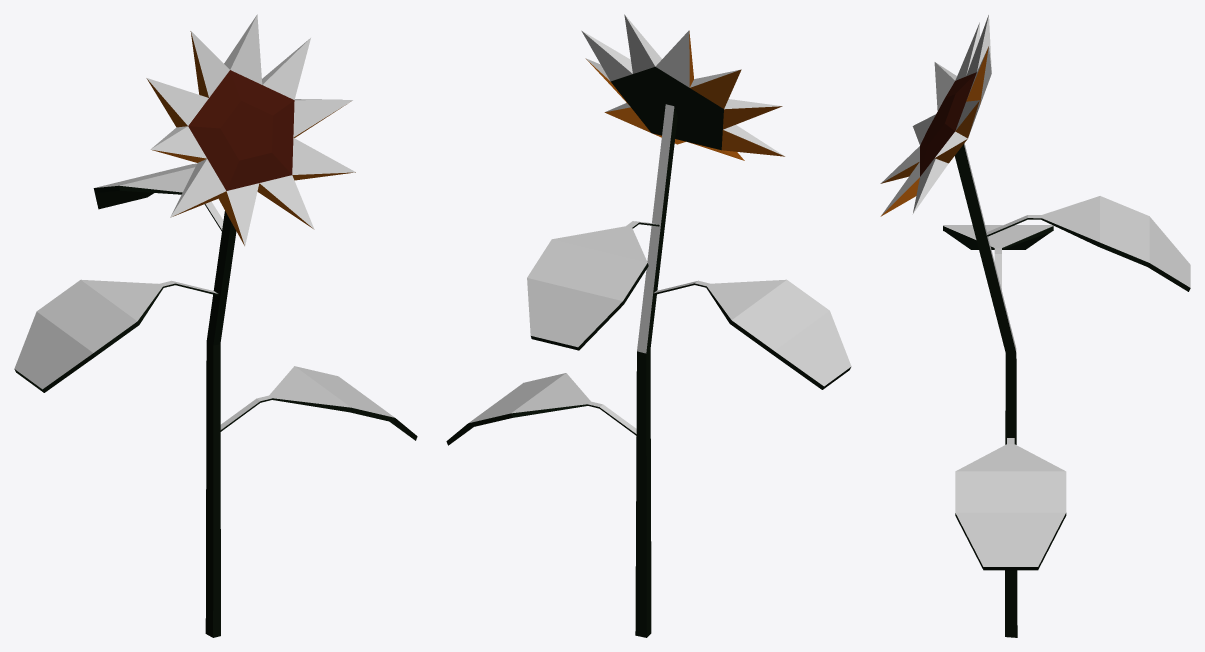
The model's file is Flower_5_Snow.obj.
The picture shows the model from 3 angles, left to right: view 1: azimuth 30°, elevation 25°; view 2: azimuth 150°, elevation 25°; view 3: azimuth 270°, elevation 25°; orthographic projection. The views are drawn at different scales.
Parts seen in each view (by area): view 1: Flower_5_Snow_Cube.015; view 2: Flower_5_Snow_Cube.015; view 3: Flower_5_Snow_Cube.015.
Boxes of the visible parts, <box> form: Flower_5_Snow_Cube.015: <box>14,14,417,637</box>; Flower_5_Snow_Cube.015: <box>446,14,851,637</box>; Flower_5_Snow_Cube.015: <box>880,14,1190,637</box>.
Bounding box in the file's own units: 1.25 × 1.94 × 0.9034.
